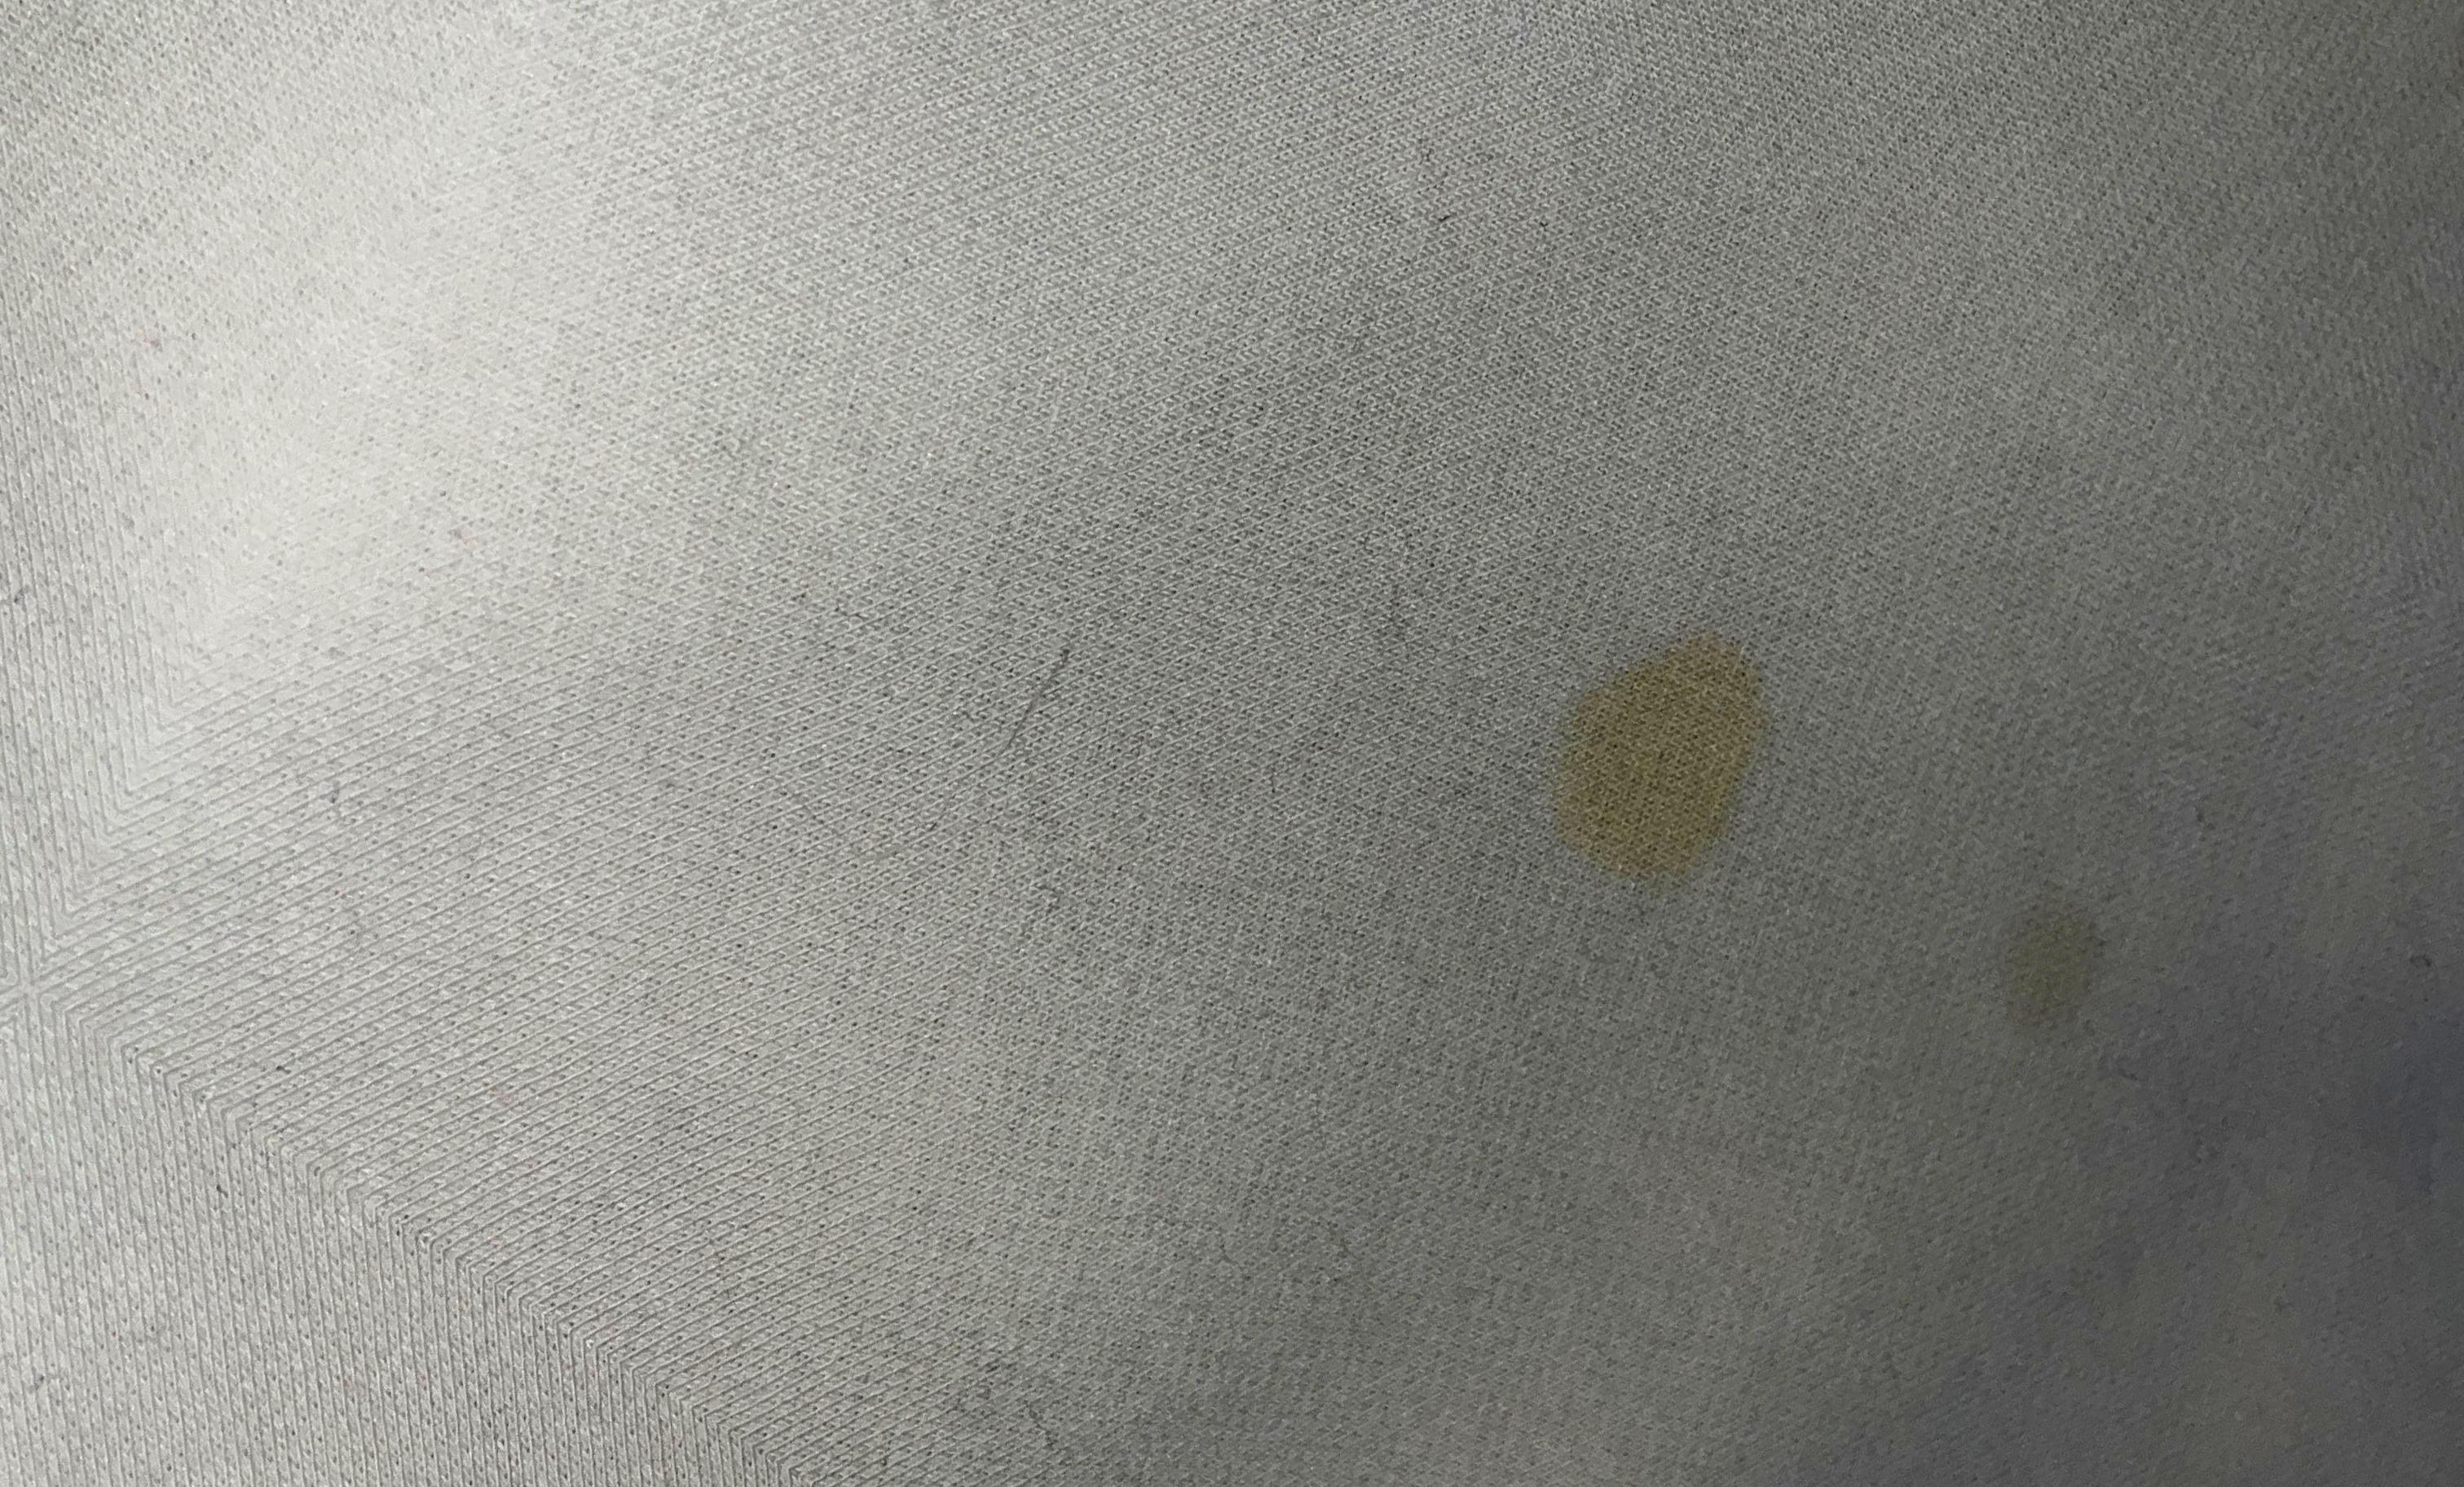stain: (1514, 619, 1772, 897), (1978, 875, 2128, 1054)
